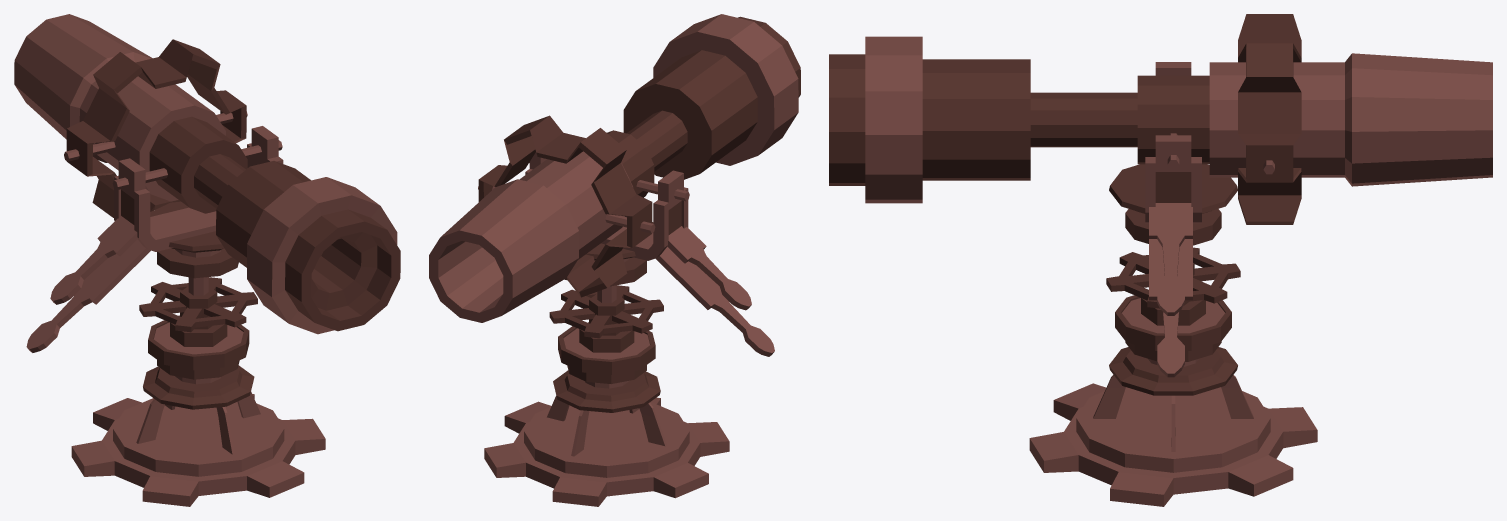
The model's file is long_1.glb.
The picture shows the model from 3 angles, left to right: view 1: azimuth 30°, elevation 25°; view 2: azimuth 150°, elevation 25°; view 3: azimuth 270°, elevation 25°; orthographic projection. The views are drawn at different scales.
Parts seen in each view (by area): view 1: _MeshInstance3D_206, _MeshInstance3D_205, _MeshInstance3D_207; view 2: _MeshInstance3D_206, _MeshInstance3D_205, _MeshInstance3D_207; view 3: _MeshInstance3D_206, _MeshInstance3D_205, _MeshInstance3D_207.
Part boxes in pixels (x1,y1,x2,y2): _MeshInstance3D_206: [14, 14, 400, 334]; _MeshInstance3D_205: [71, 315, 325, 506]; _MeshInstance3D_207: [26, 126, 283, 352]; _MeshInstance3D_206: [429, 14, 800, 322]; _MeshInstance3D_205: [484, 326, 729, 506]; _MeshInstance3D_207: [525, 152, 774, 356]; _MeshInstance3D_206: [829, 14, 1492, 224]; _MeshInstance3D_205: [1029, 295, 1317, 506]; _MeshInstance3D_207: [1106, 62, 1240, 377].
Bounding box in the file's own units: 2.15 × 2.22 × 3.17.
